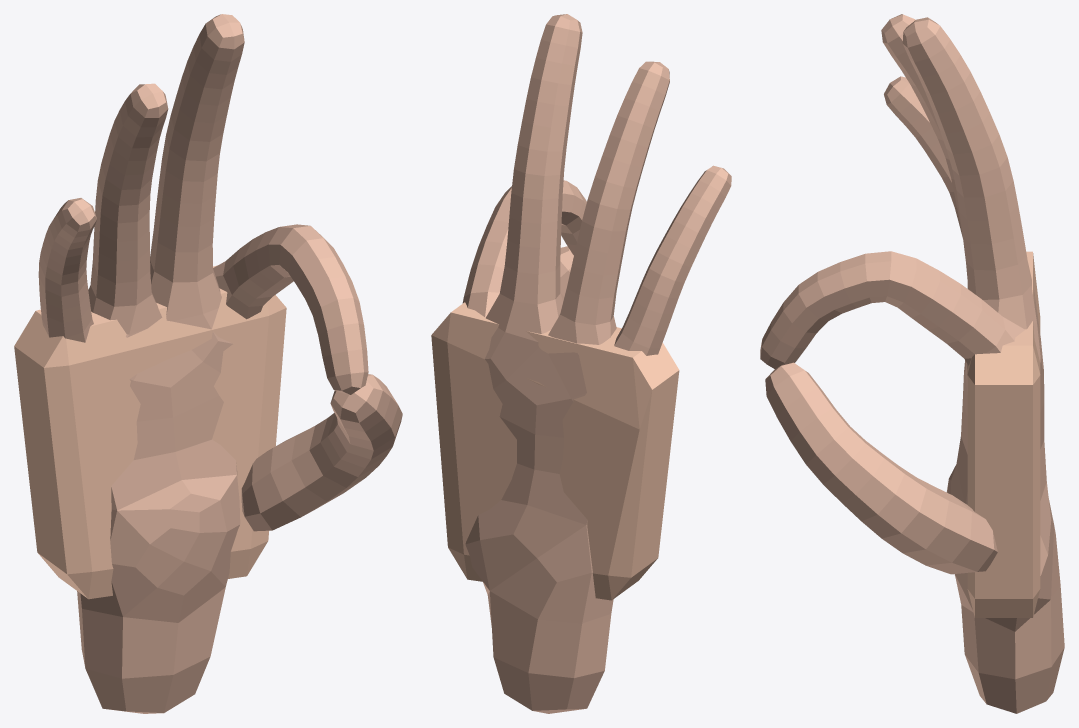
Rendered from Hand_Pinch_2_right hand.fbx.
3 renders of one model, left to right at view 1: azimuth 30°, elevation 25°; view 2: azimuth 150°, elevation 25°; view 3: azimuth 270°, elevation 25°, orthographic. The views are drawn at different scales.
Visible parts, largest first — view 1: Hand_Pinch_R, Cube_R; view 2: Hand_Pinch_R, Cube_R; view 3: Hand_Pinch_R, Cube_R.
Part boxes in pixels (<box>): Hand_Pinch_R: <box>38,14,402,713</box>; Cube_R: <box>14,265,286,599</box>; Hand_Pinch_R: <box>462,14,731,713</box>; Cube_R: <box>431,302,679,600</box>; Hand_Pinch_R: <box>760,14,1064,713</box>; Cube_R: <box>967,251,1040,617</box>.
Size of the model in its own units: 10.23 by 22.89 by 8.96.
